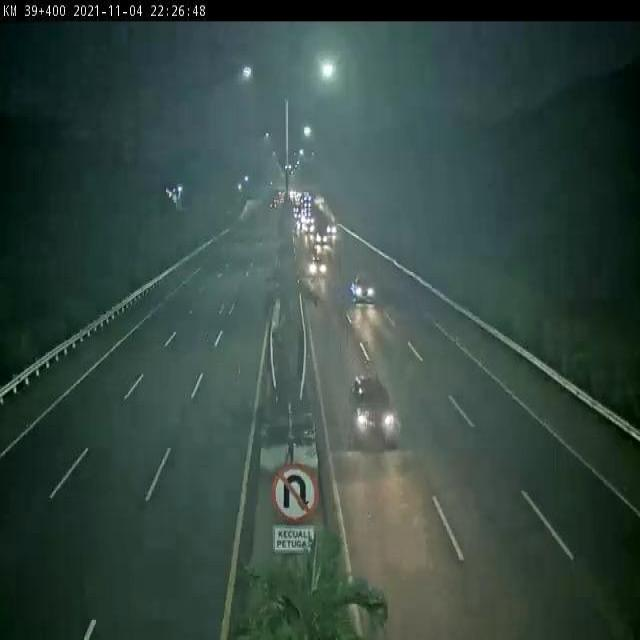car: (344, 357, 402, 452)
